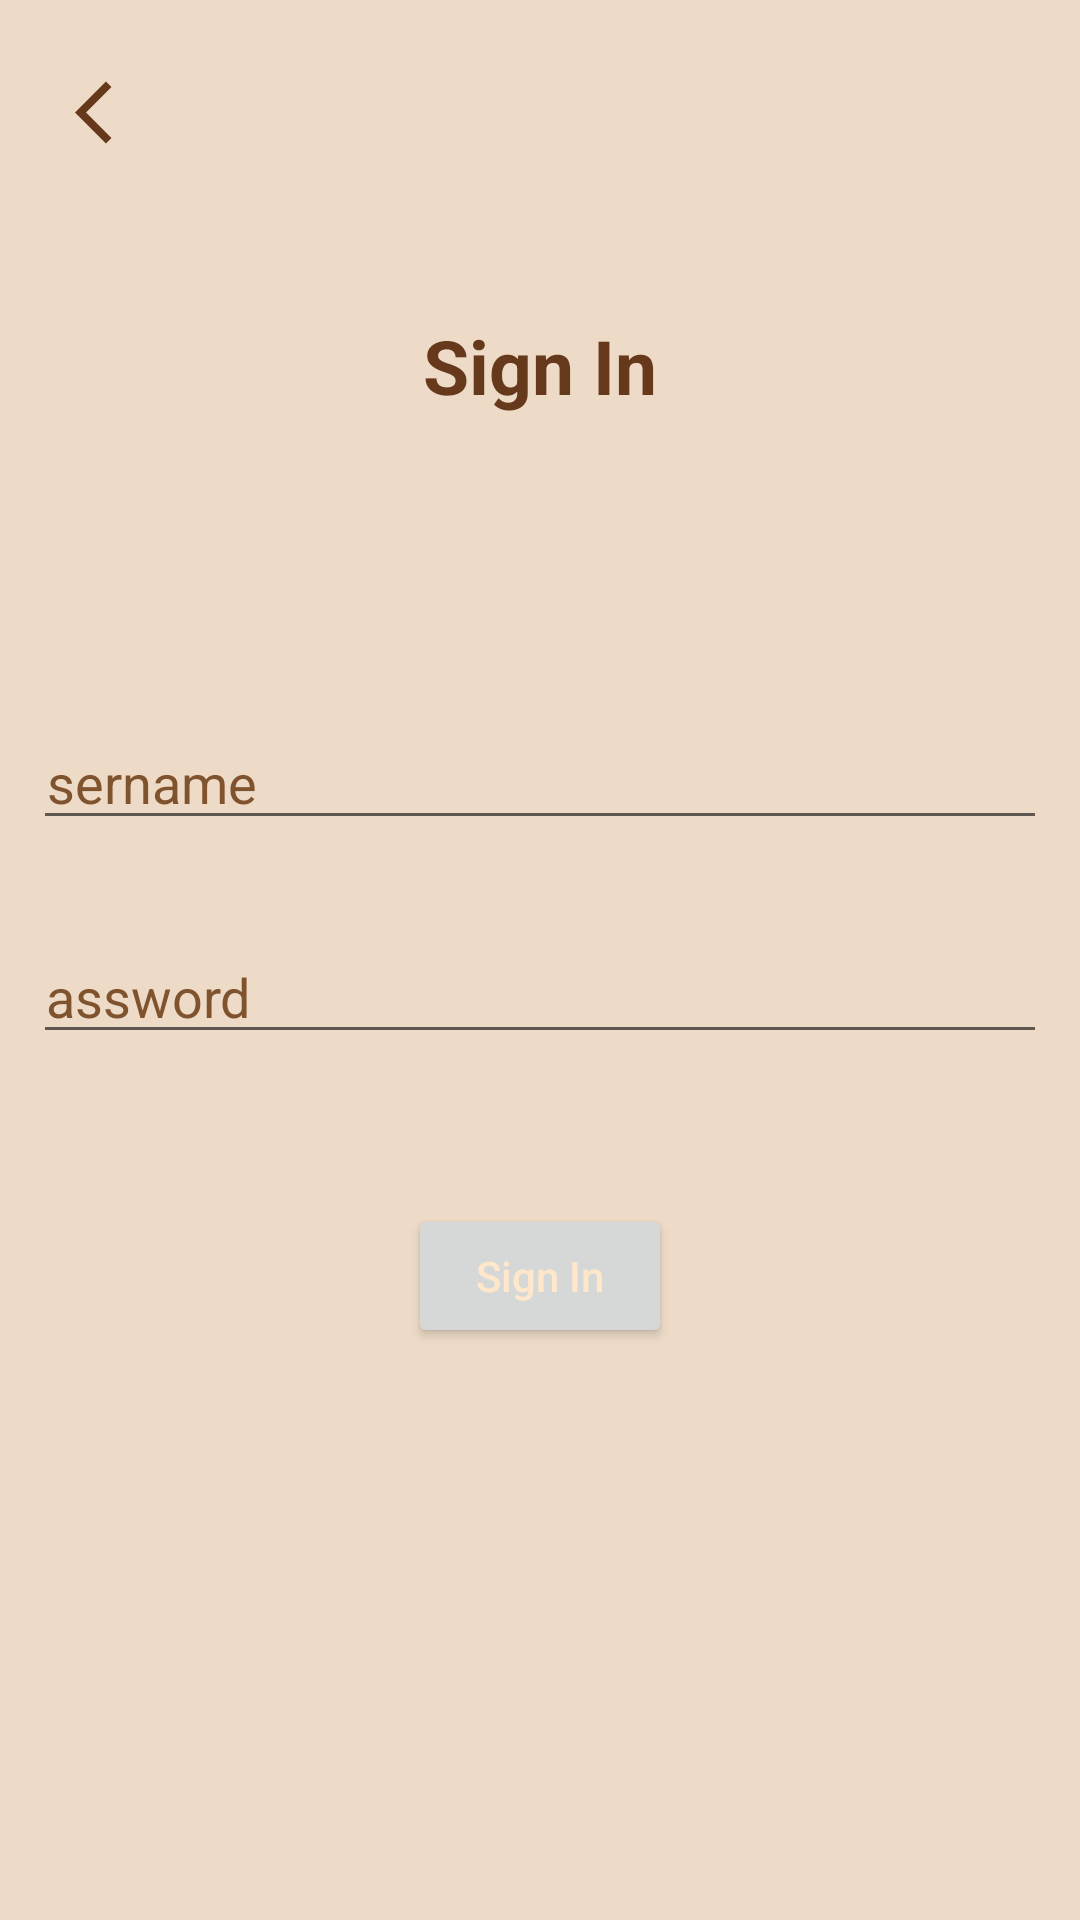

Locate icon controls on the screen. Image size 1080w x 1920h, boxes as rect(x1, y1, x2, y2).
arrow back: rect(75, 81, 111, 144)
